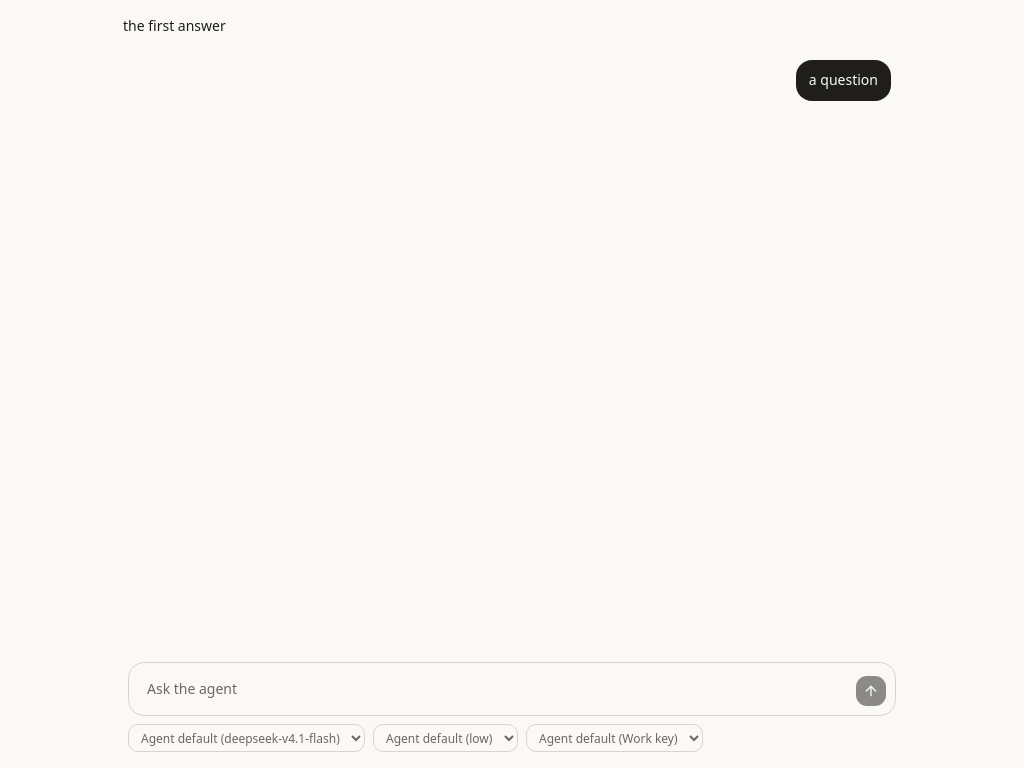
Test case: ChatPane › keeps a failed line where it was sent rather than at the bottom
Expected: the button "a question" is shown, [796,60,891,101]
Type "the failed follow-up" into the text box named "Message" at (492, 689), box [137,671,847,707]
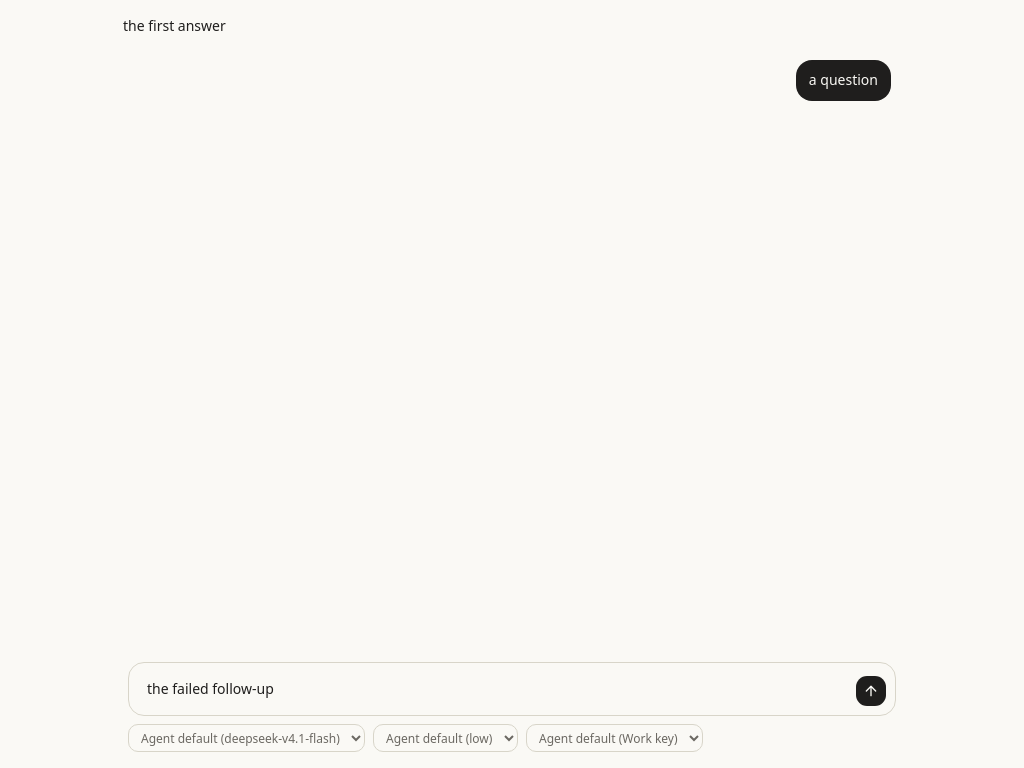
Click the button named "Send message" at (871, 691), box [855,675,887,707]
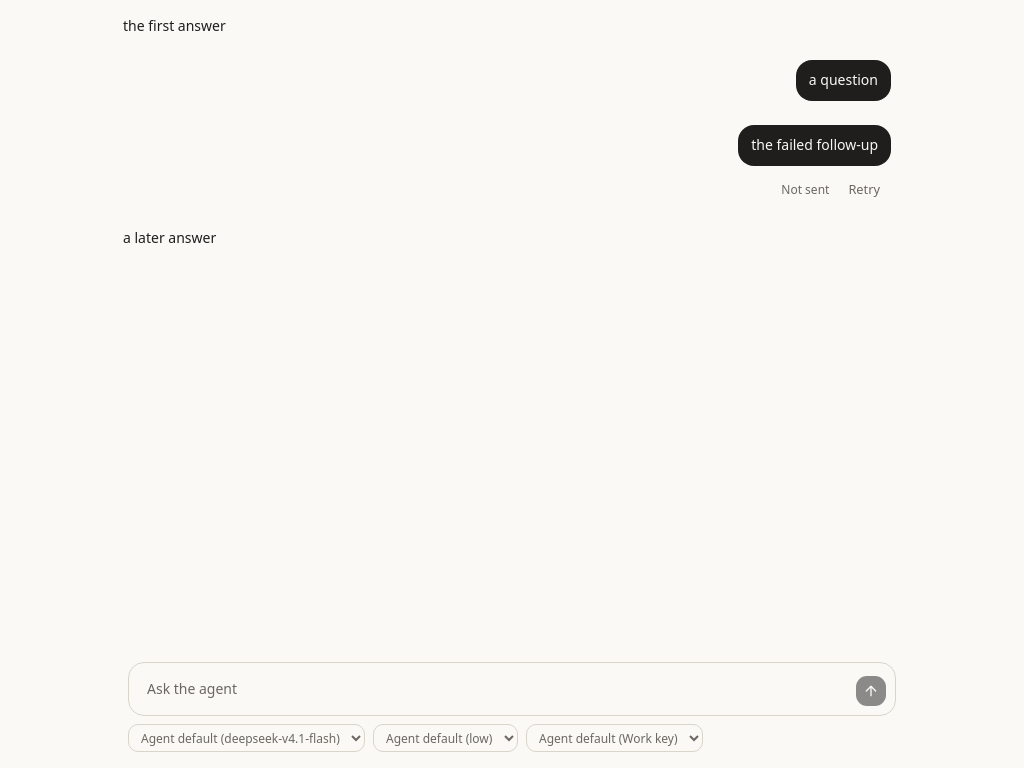
Expected: the text "Not sent" is shown, [781,182,829,198]
Expected: the text "a later answer" is shown, [123,228,216,246]
